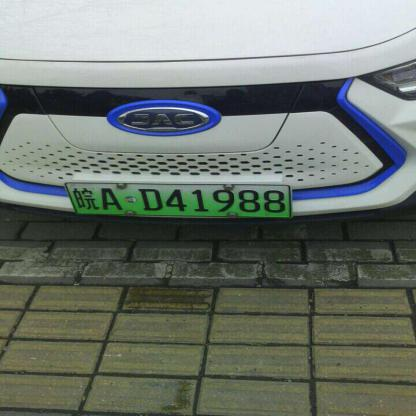lp: (64, 182, 291, 218)
